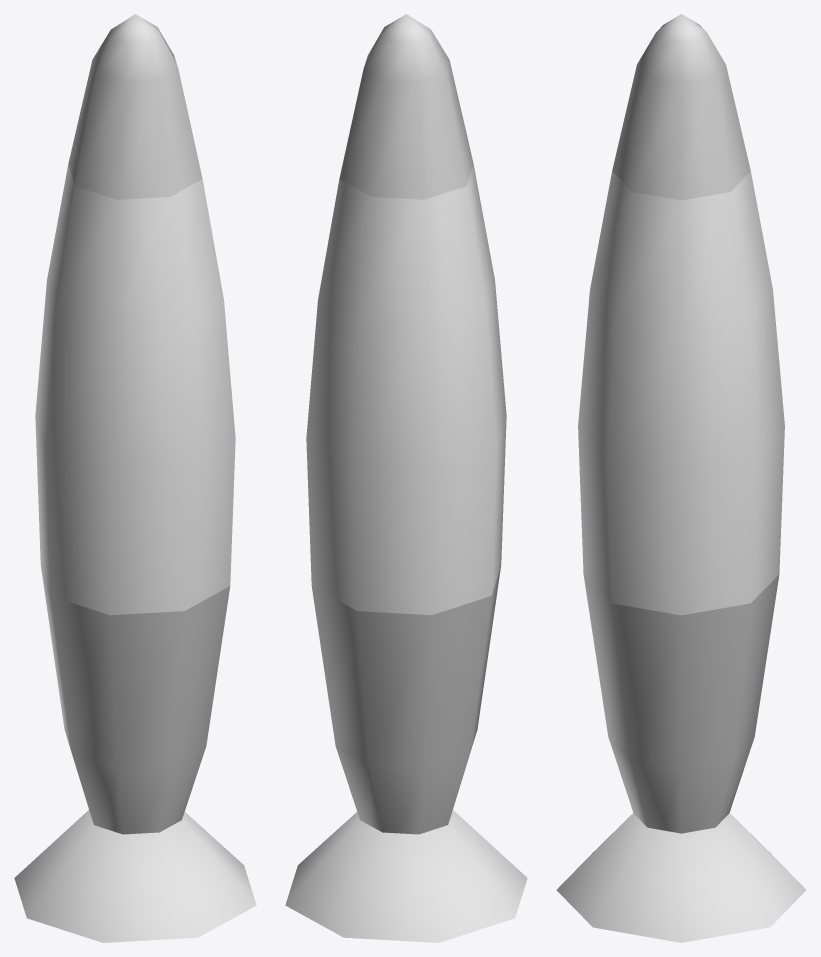
Rendered from lamp_006.fbx.
3 renders of one model, left to right at view 1: azimuth 30°, elevation 25°; view 2: azimuth 150°, elevation 25°; view 3: azimuth 270°, elevation 25°, orthographic.
Visible parts, largest first — view 1: lamp_006; view 2: lamp_006; view 3: lamp_006.
Part boxes in pixels (box(x1,y1,x2,y2)): lamp_006: box(14, 14, 256, 942); lamp_006: box(285, 14, 527, 942); lamp_006: box(556, 14, 806, 942).
Bounding box in the file's own units: 20.32 × 20.32 × 78.44.
